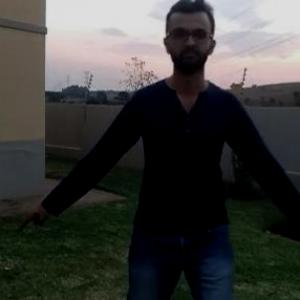land: (23, 3, 299, 298)
